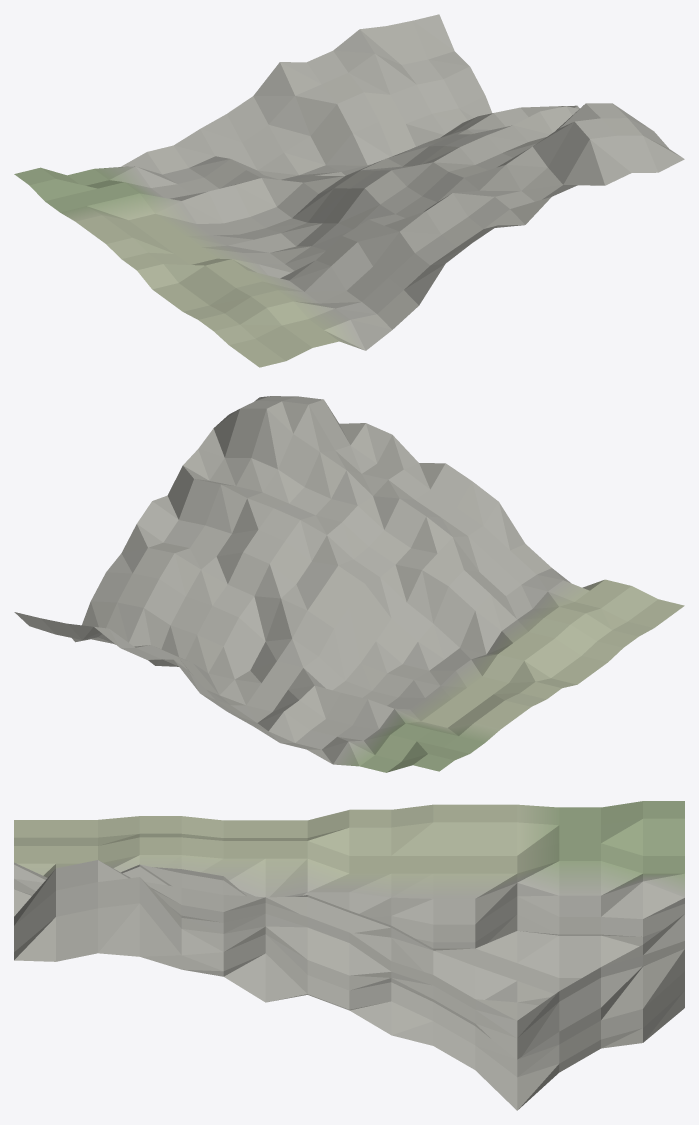
The picture shows the model from 3 angles, top to bottom: view 1: azimuth 30°, elevation 25°; view 2: azimuth 150°, elevation 25°; view 3: azimuth 270°, elevation 25°; orthographic projection. The views are drawn at different scales.
Size of the model in its own units: 32 by 10.91 by 32.
